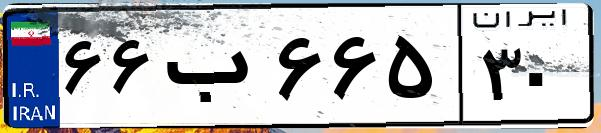0: (525, 38, 570, 115)
3: (475, 38, 525, 113)
5: (385, 28, 445, 110)
6: (270, 28, 330, 110), (330, 28, 385, 110), (57, 26, 110, 100), (110, 28, 158, 98)
ب: (158, 20, 270, 120)
